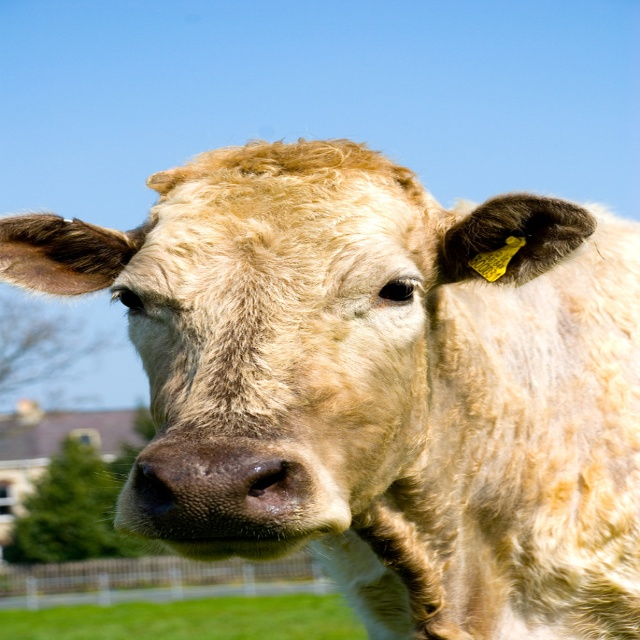Cattle: (25, 109, 640, 640)
